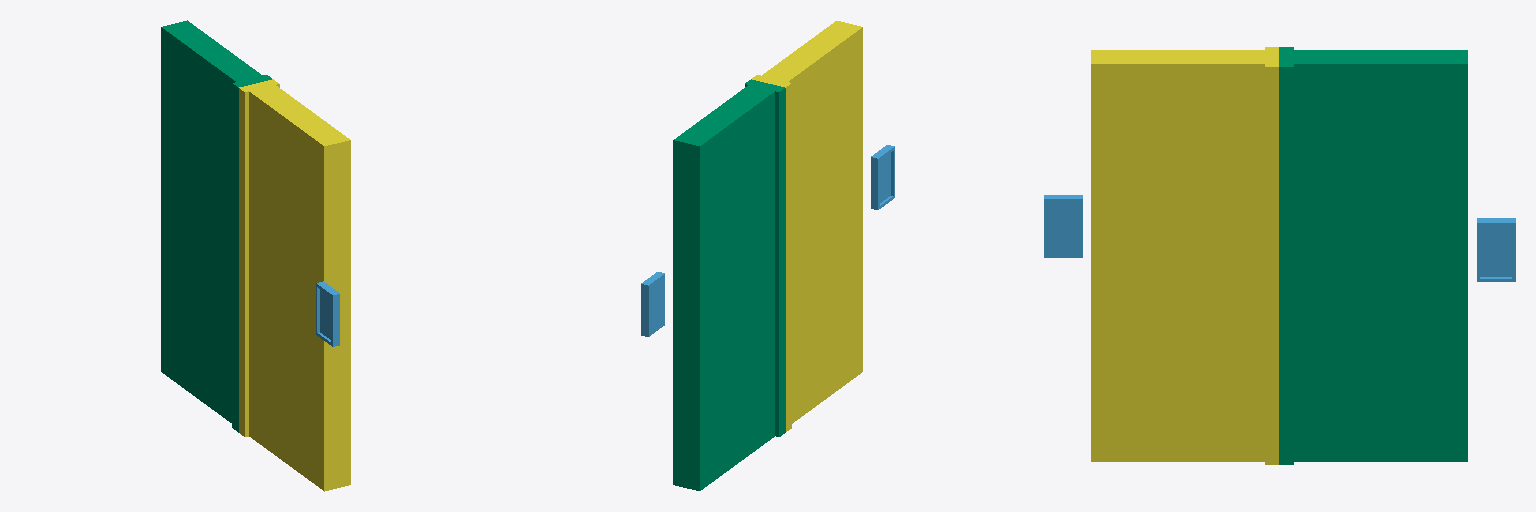
robot.urdf — partnet_892eab75d8c54ecccaef18b2fd3fb17c:
<?xml version="1.0" ?>
<robot name="partnet_892eab75d8c54ecccaef18b2fd3fb17c">
	<link name="base"/>
	<link name="link_0">
		<visual name="outside_frame-1">
			<origin xyz="0 0 0"/>
			<geometry>
				<mesh filename="textured_objs/original-3.obj"/>
			</geometry>
		</visual>
		<visual name="outside_frame-1">
			<origin xyz="0 0 0"/>
			<geometry>
				<mesh filename="textured_objs/original-2.obj"/>
			</geometry>
		</visual>
		<collision>
			<origin xyz="0 0 0"/>
			<geometry>
				<mesh filename="textured_objs/original-3.obj"/>
			</geometry>
		</collision>
		<collision>
			<origin xyz="0 0 0"/>
			<geometry>
				<mesh filename="textured_objs/original-2.obj"/>
			</geometry>
		</collision>
	</link>
	<joint name="joint_0" type="fixed">
		<origin rpy="1.570796326794897 0 -1.570796326794897" xyz="0 0 0"/>
		<child link="link_0"/>
		<parent link="base"/>
	</joint>
	<link name="link_1">
		<visual name="surface_board-7">
			<origin xyz="0.6531962155887407 -0.7751179999999998 -0.015062613810474357"/>
			<geometry>
				<mesh filename="textured_objs/original-4.obj"/>
			</geometry>
		</visual>
		<collision>
			<origin xyz="0.6531962155887407 -0.7751179999999998 -0.015062613810474357"/>
			<geometry>
				<mesh filename="textured_objs/original-4.obj"/>
			</geometry>
		</collision>
	</link>
	<joint name="joint_1" type="revolute">
		<origin xyz="-0.6531962155887407 0.7751179999999998 0.015062613810474357"/>
		<axis xyz="0 -1 0"/>
		<child link="link_1"/>
		<parent link="link_0"/>
		<limit lower="0.0" upper="1.5707963267948966"/>
	</joint>
	<link name="link_2">
		<visual name="surface_board-8">
			<origin xyz="-0.6310310644084259 -0.775118 -0.05262104481959495"/>
			<geometry>
				<mesh filename="textured_objs/original-1.obj"/>
			</geometry>
		</visual>
		<collision>
			<origin xyz="-0.6310310644084259 -0.775118 -0.05262104481959495"/>
			<geometry>
				<mesh filename="textured_objs/original-1.obj"/>
			</geometry>
		</collision>
	</link>
	<joint name="joint_2" type="revolute">
		<origin xyz="0.6310310644084259 0.775118 0.05262104481959495"/>
		<axis xyz="0 1 0"/>
		<child link="link_2"/>
		<parent link="link_0"/>
		<limit lower="-0.0" upper="1.5707963267948966"/>
	</joint>
</robot>

--- What the picture shows (computed from the rendered views, not written in the file) ---
Views: 3 orthographic renders of the robot side by side, from view 1: azimuth 30°, elevation 25°; view 2: azimuth 150°, elevation 25°; view 3: azimuth 270°, elevation 25°.
Model partnet_892eab75d8c54ecccaef18b2fd3fb17c with 4 links and 3 joints (2 revolute, 1 fixed), rooted at base, posed every joint at zero.
Visible links, largest first — view 1: link_2, link_1, link_0; view 2: link_1, link_2, link_0; view 3: link_1, link_2, link_0.
Link boxes in pixels (x1=…): link_2: x1=239, y1=79, x2=350, y2=491; link_1: x1=161, y1=20, x2=271, y2=432; link_0: x1=316, y1=281, x2=339, y2=346; link_1: x1=673, y1=79, x2=785, y2=490; link_2: x1=752, y1=21, x2=862, y2=431; link_0: x1=641, y1=145, x2=894, y2=336; link_1: x1=1279, y1=47, x2=1467, y2=464; link_2: x1=1091, y1=47, x2=1278, y2=464; link_0: x1=1044, y1=195, x2=1515, y2=281.
Bounding box of the posed robot: 0.2324 × 1.65 × 1.54 m (x, y, z).
Meshes: 4 distinct files referenced, 4 mesh visuals loaded (4 OBJ).
